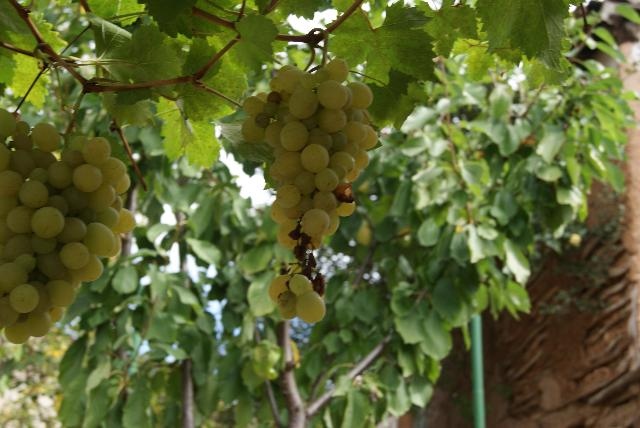grapes: (241, 59, 379, 322), (0, 110, 134, 344)
